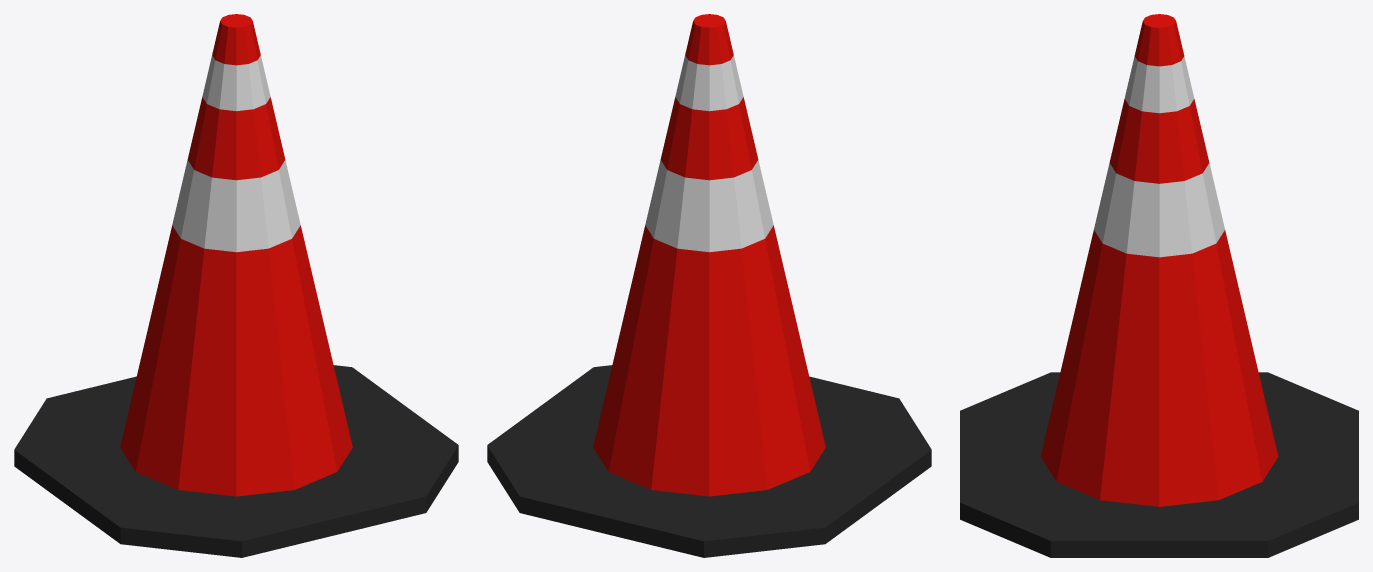
The picture shows the model from 3 angles, left to right: view 1: azimuth 30°, elevation 25°; view 2: azimuth 150°, elevation 25°; view 3: azimuth 270°, elevation 25°; orthographic projection. The views are drawn at different scales.
Visible parts, largest first — view 1: Cone.002; view 2: Cone.002; view 3: Cone.002.
Part boxes in pixels (left/top/right/bottom): Cone.002: left=14, top=14, right=458, bottom=557; Cone.002: left=487, top=14, right=931, bottom=557; Cone.002: left=960, top=14, right=1358, bottom=557.
Size of the model in its own units: 142 by 179 by 142.
